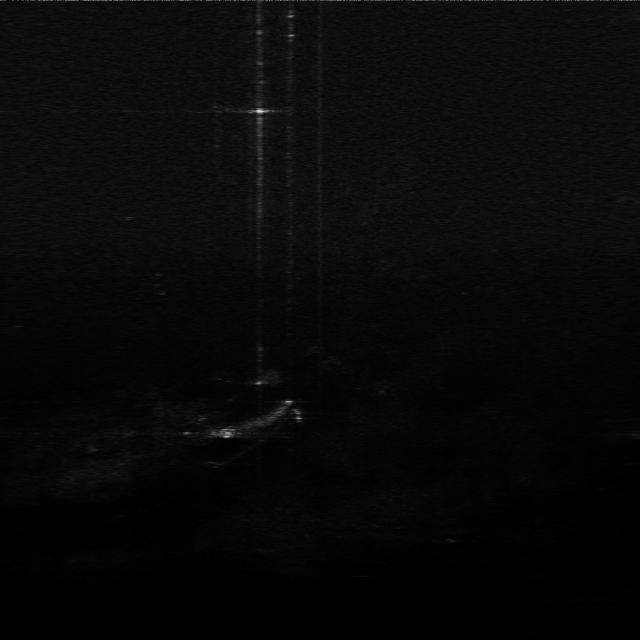rov: (208, 422, 240, 440)
